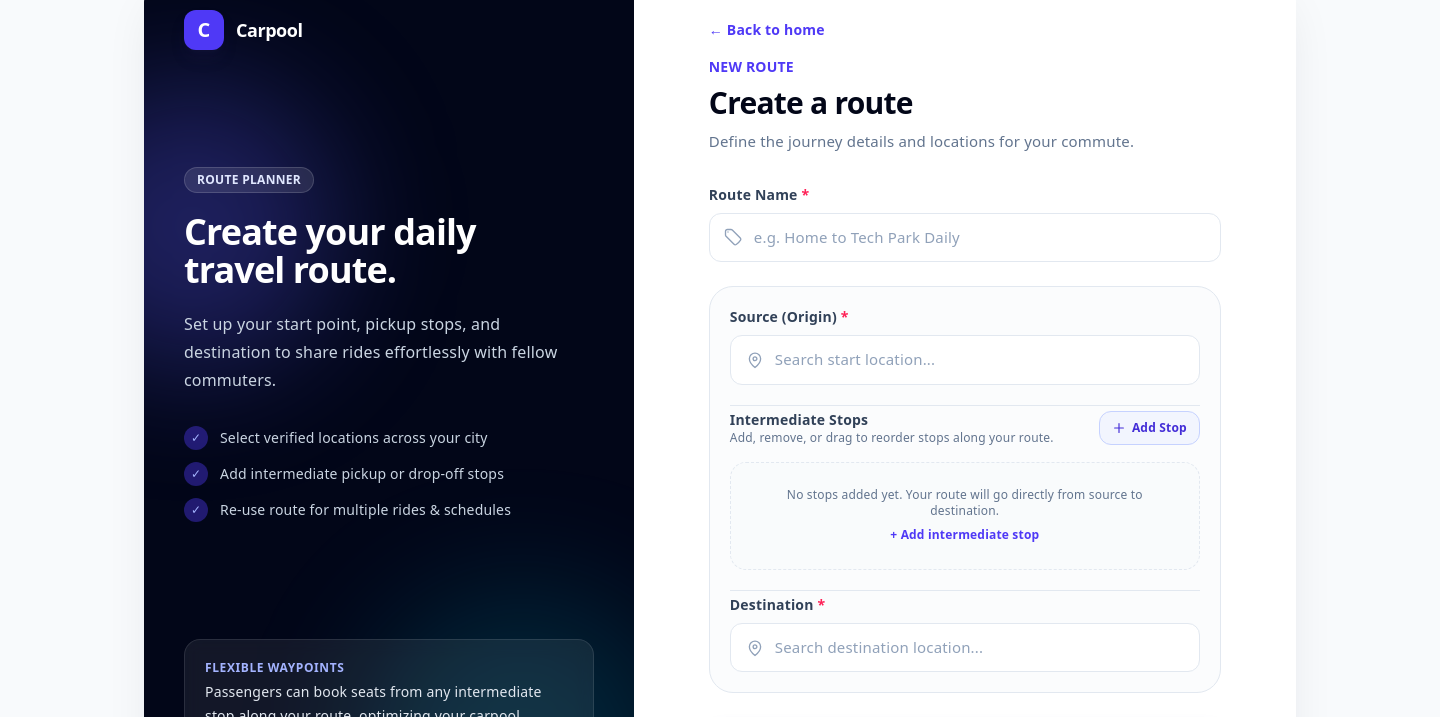
CreateRoutePage › selects source and destination, and successfully creates route
# Fill route name
In the field labelled "Route Name *": (965, 238) [709,213,1221,262], type "Daily Work Commute"
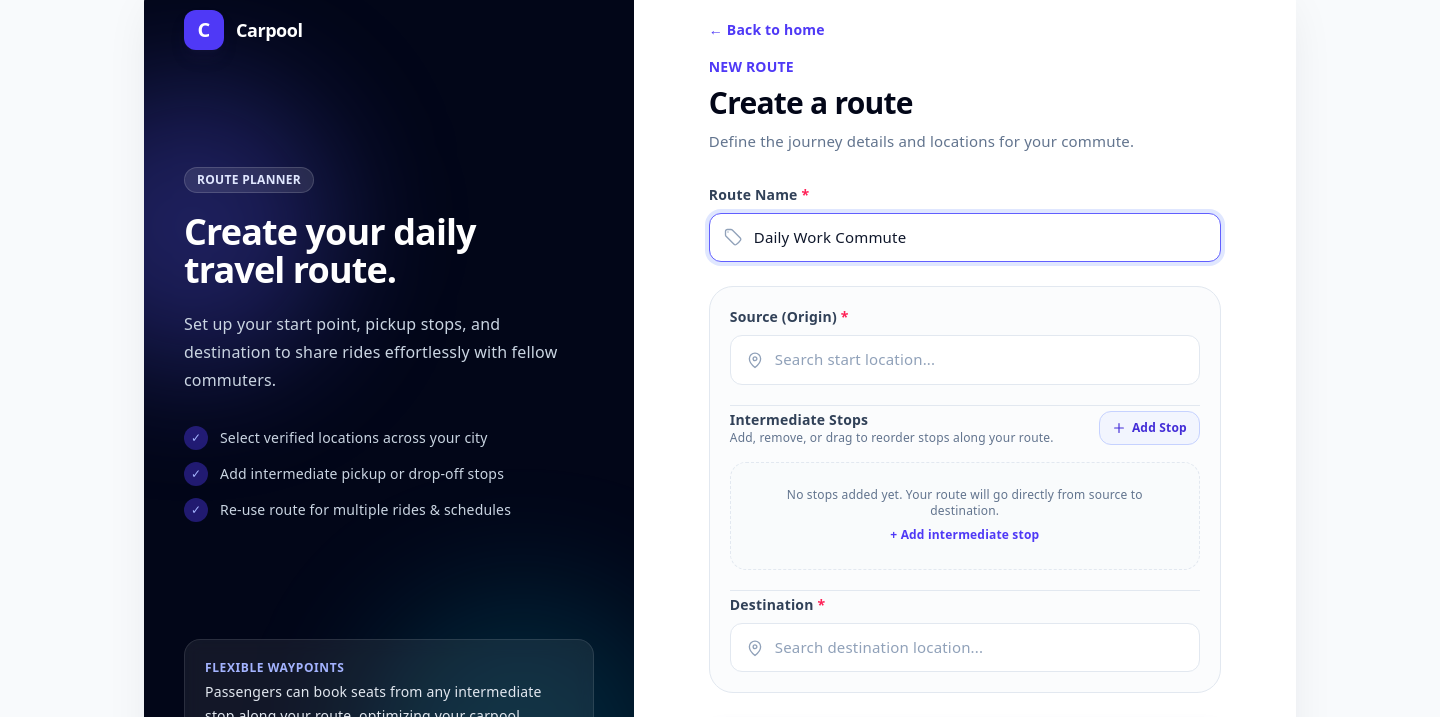
# Pick source location
Click the dropdown with placeholder "Search start location...": (965, 360) [731,336,1199,384]
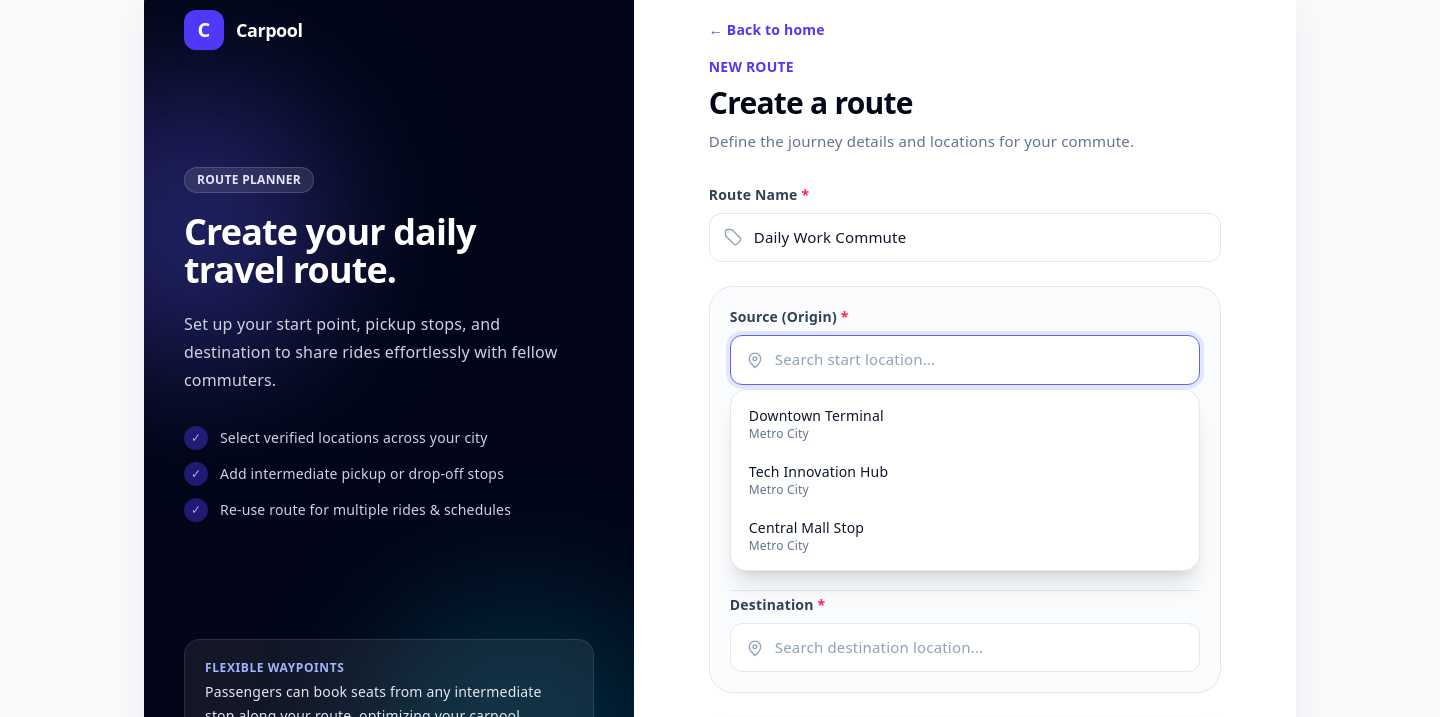
Click the option "Downtown Terminal Metro City": (816, 415) [737,396,1193,452]
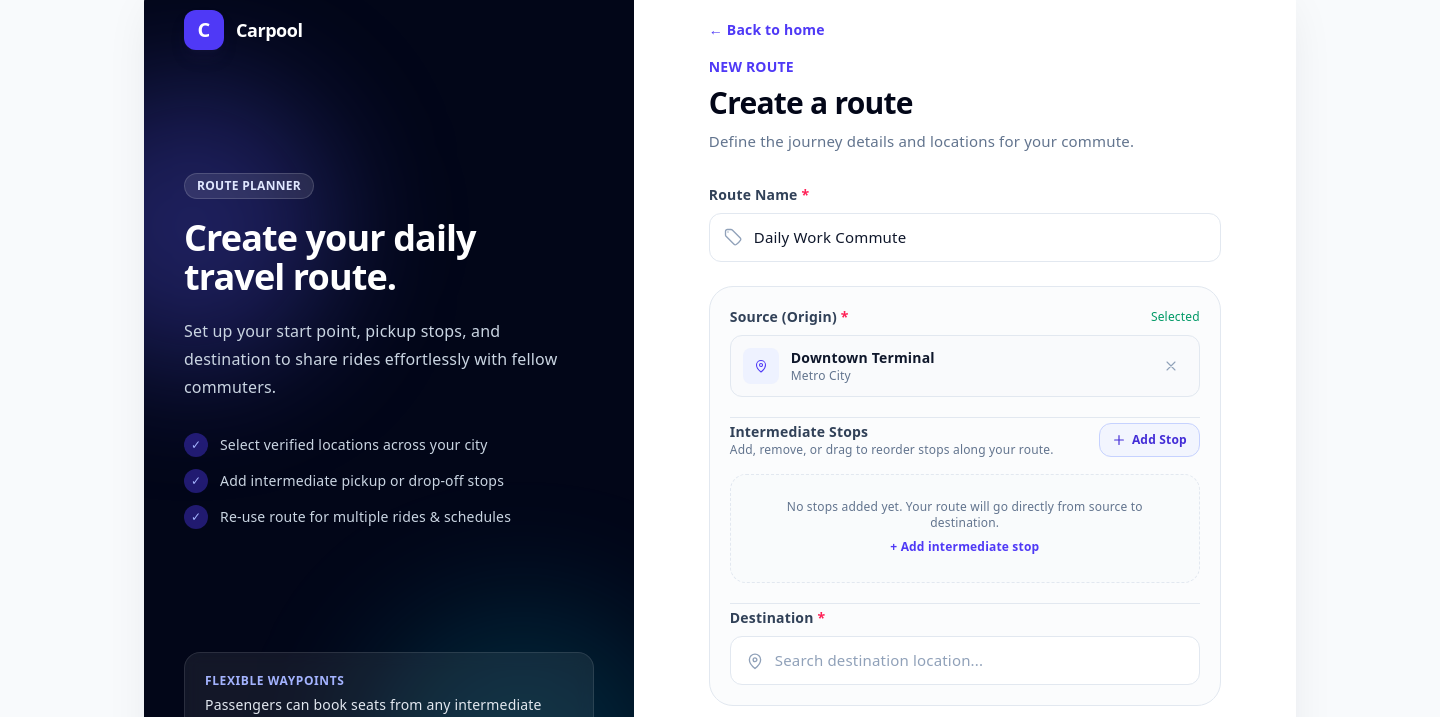
# Pick destination location
Click the dropdown with placeholder "Search destination location...": (965, 660) [731,637,1199,684]
(page scrolled)
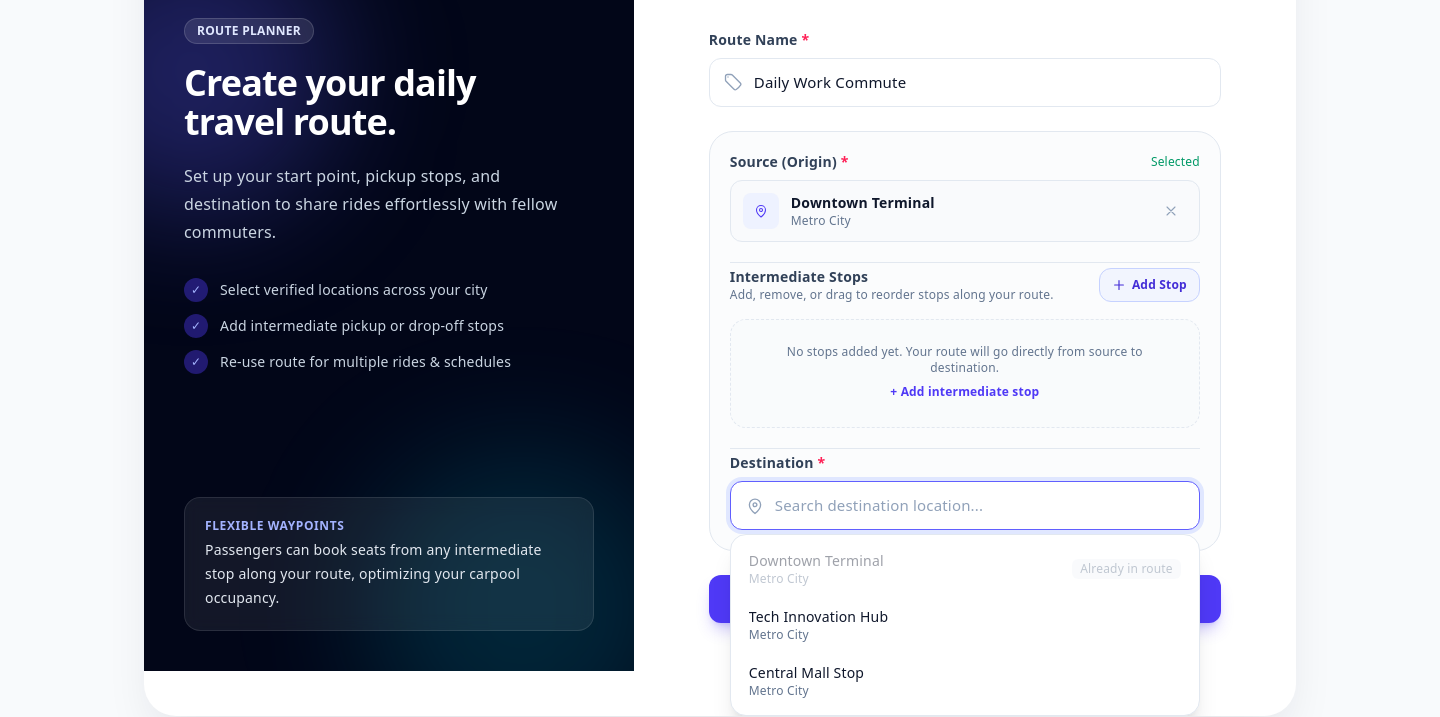
Click the option "Tech Innovation Hub Metro City": (818, 616) [737,597,1193,653]
(page scrolled)
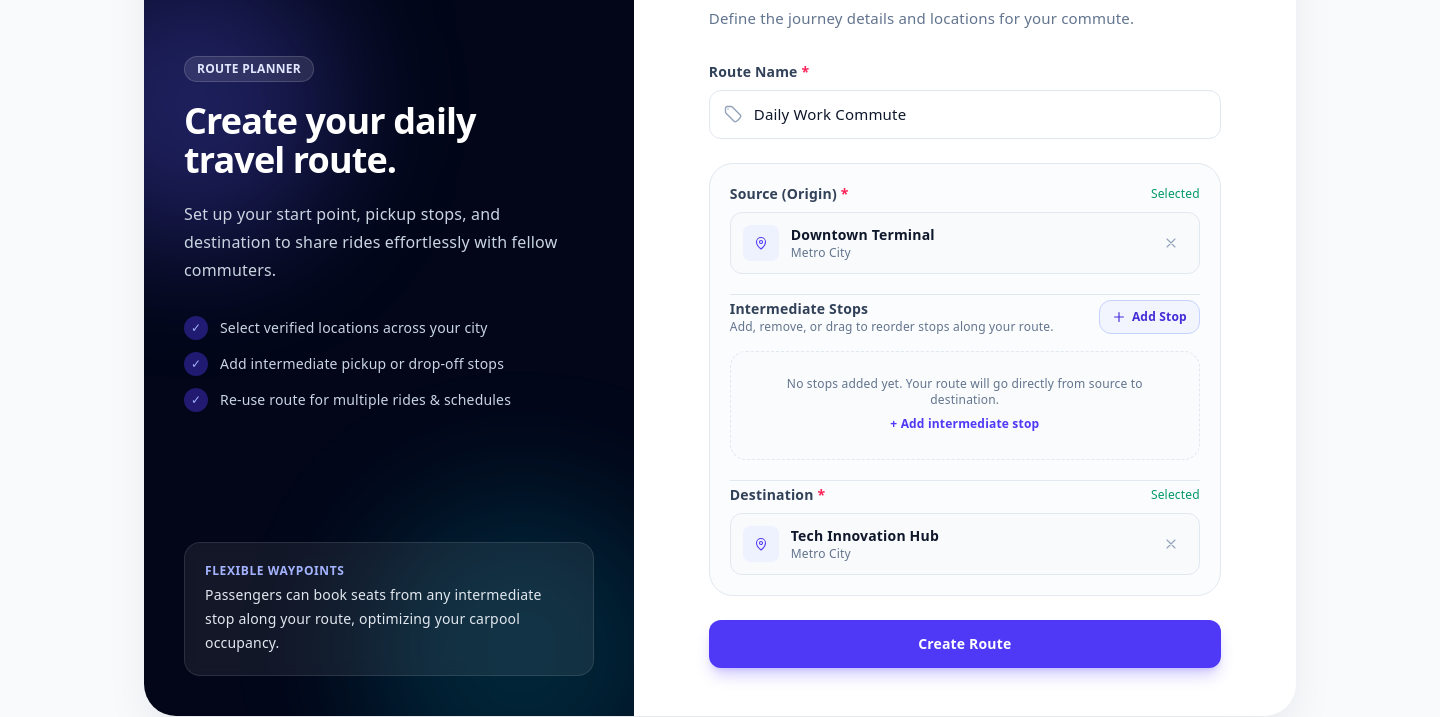
# Submit form
Click the button "Create Route": (965, 644) [709,620,1221,668]
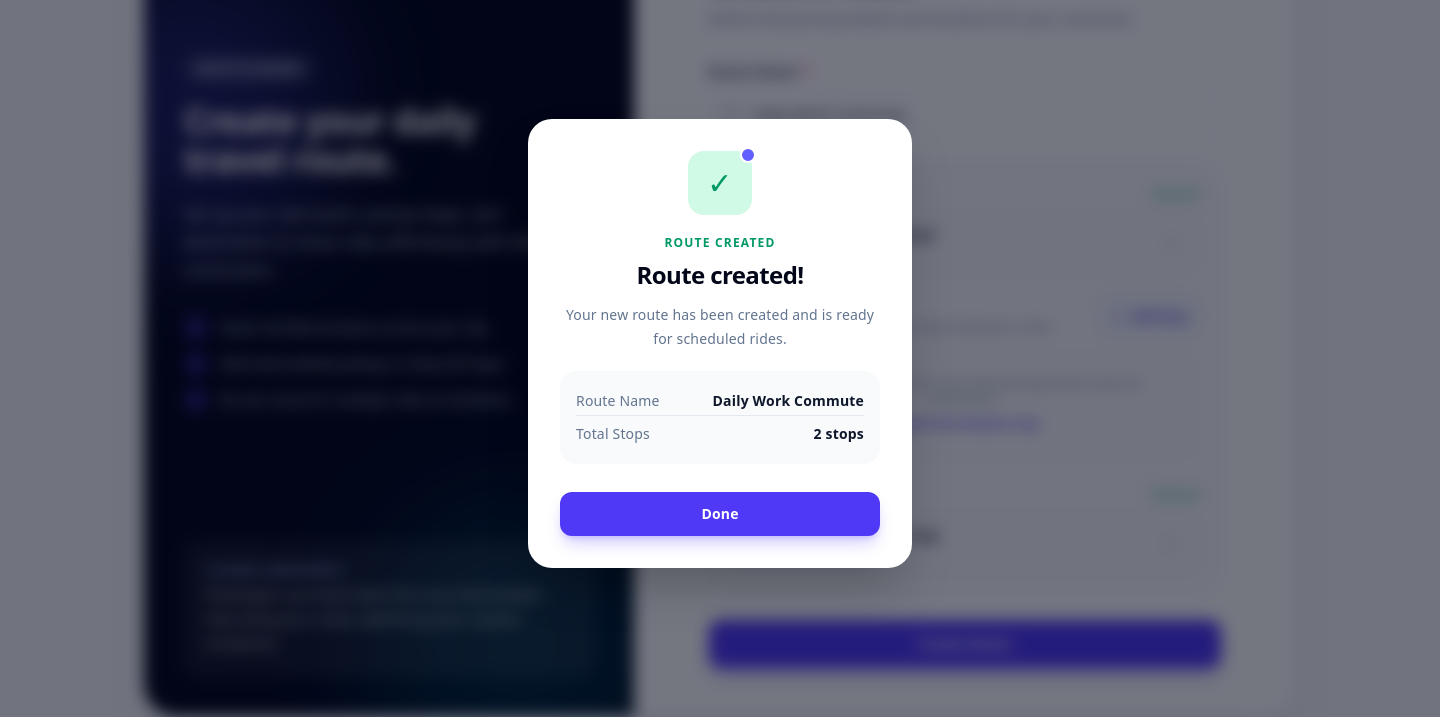
Now the heading "Route created!" is shown, box [636,258,804,290]
